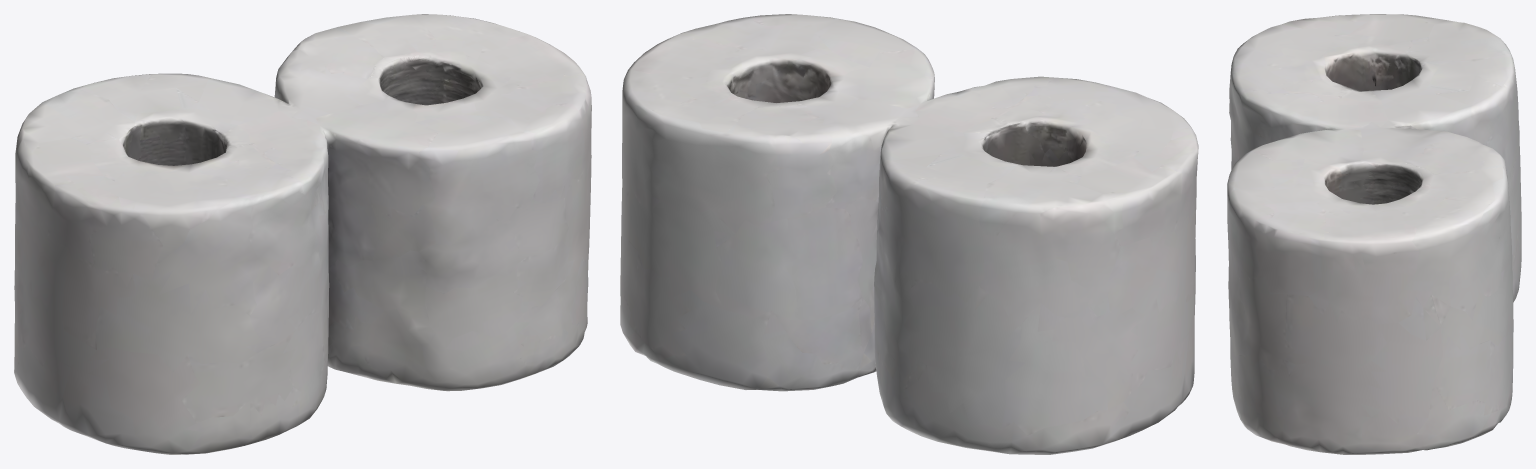
File: react-paper_rolls-BWJzyfhg.glb
3 views of the same model, side by side, from view 1: azimuth 30°, elevation 25°; view 2: azimuth 150°, elevation 25°; view 3: azimuth 270°, elevation 25° (orthographic). The views are drawn at different scales.
Visible parts, largest first — view 1: Meshy_Mesh_0.005; view 2: Meshy_Mesh_0.005; view 3: Meshy_Mesh_0.005.
Boxes of the visible parts, bbox=[...] form: Meshy_Mesh_0.005: bbox=[14, 14, 591, 454]; Meshy_Mesh_0.005: bbox=[620, 14, 1198, 454]; Meshy_Mesh_0.005: bbox=[1227, 14, 1521, 454].
Bounding box in the file's own units: 0.2247 × 0.1049 × 0.1213.
Materials: 1 (1 with a texture image).
